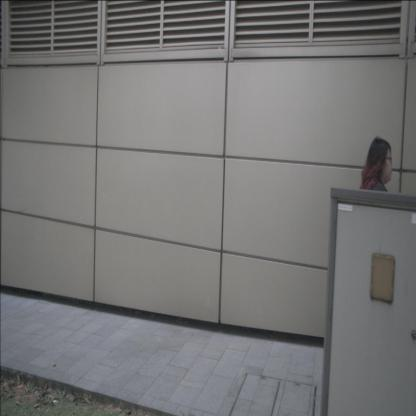human-pedestrian-adult: (360, 133, 394, 381)
